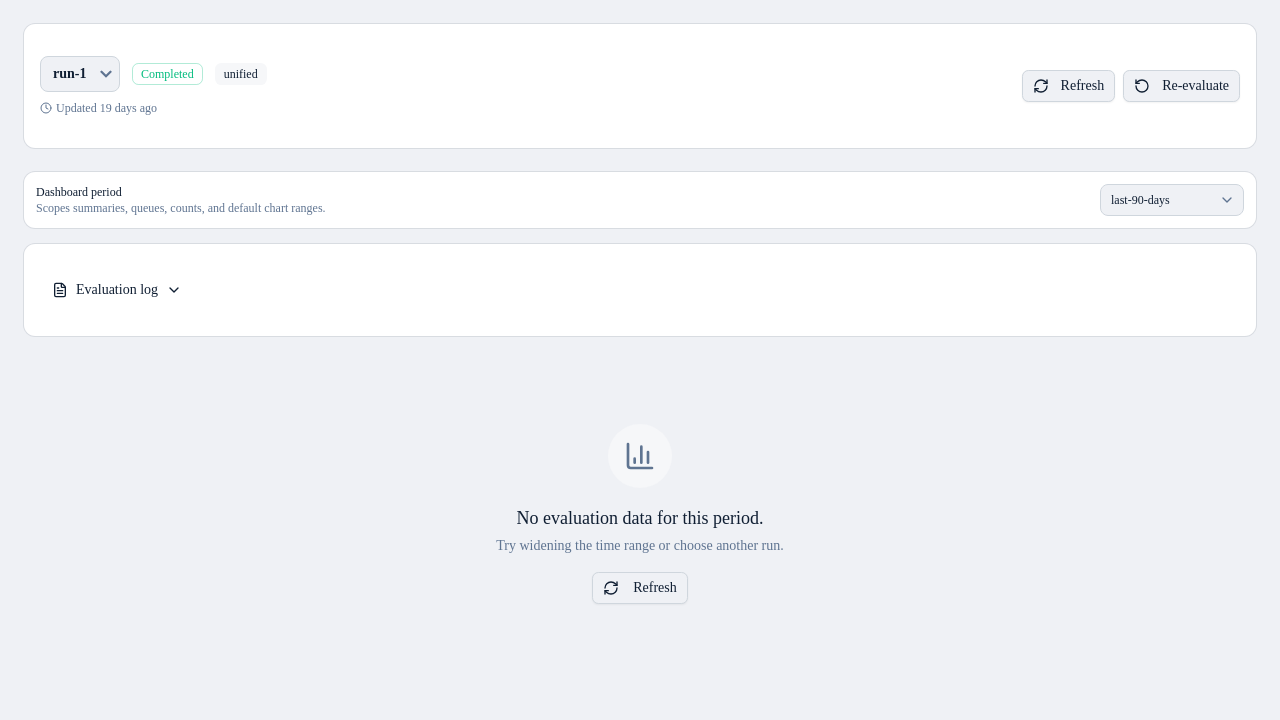
Test: Monitor page evaluation configuration › opens Re-evaluate with normalized selected-run settings
Click the button "Re-evaluate" at {"x": 1182, "y": 86}, box top-left (1123, 70), bottom-right (1240, 102)
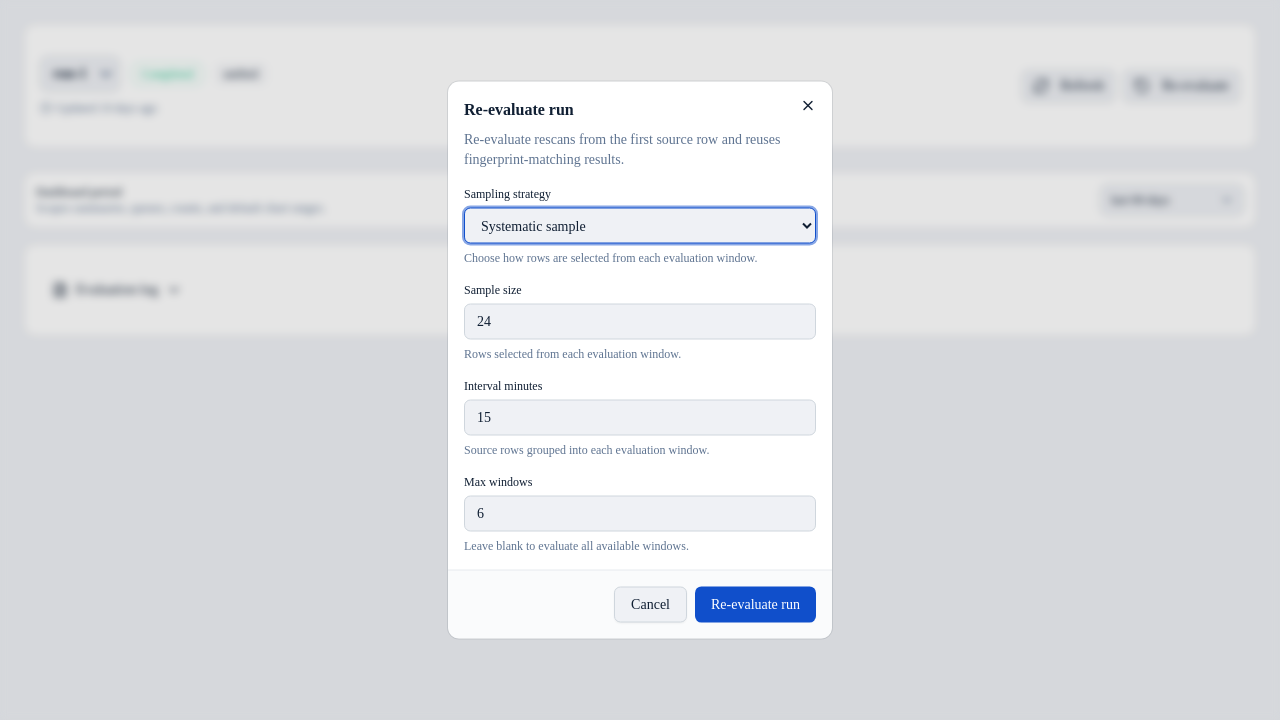
Now the heading "Re-evaluate run" is shown, box top-left (464, 100), bottom-right (574, 118)
Now the dropdown labelled "Sampling strategy" shows "Systematic sample", box top-left (464, 208), bottom-right (816, 244)
Now the number field labelled "Sample size" holds "24", box top-left (464, 304), bottom-right (816, 340)
